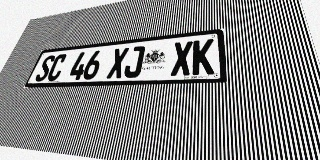4: (67, 51, 90, 80)
6: (81, 50, 104, 80)
C: (45, 54, 68, 81)
J: (123, 46, 145, 78)
K: (192, 38, 214, 75)
S: (34, 55, 56, 82)
X: (170, 41, 193, 76), (106, 47, 129, 79)
